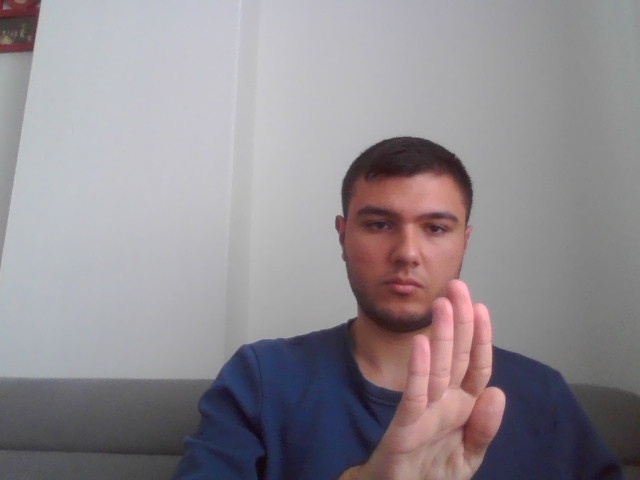Hello: (401, 278, 510, 479)
